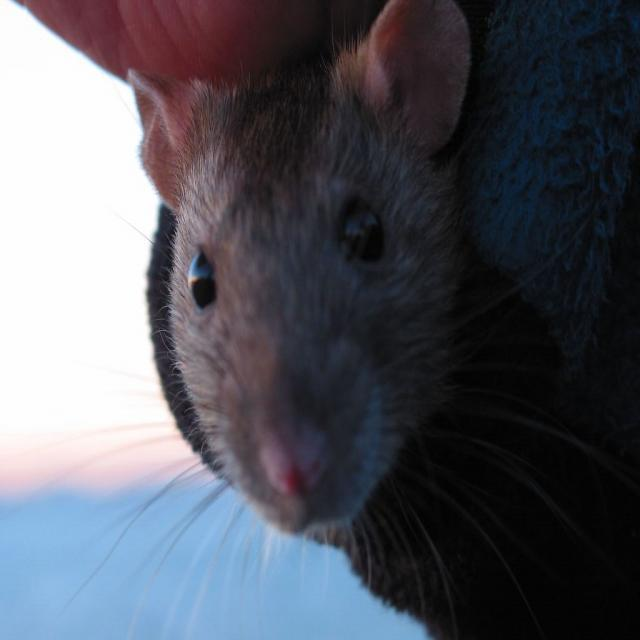rat: (127, 0, 481, 541)
